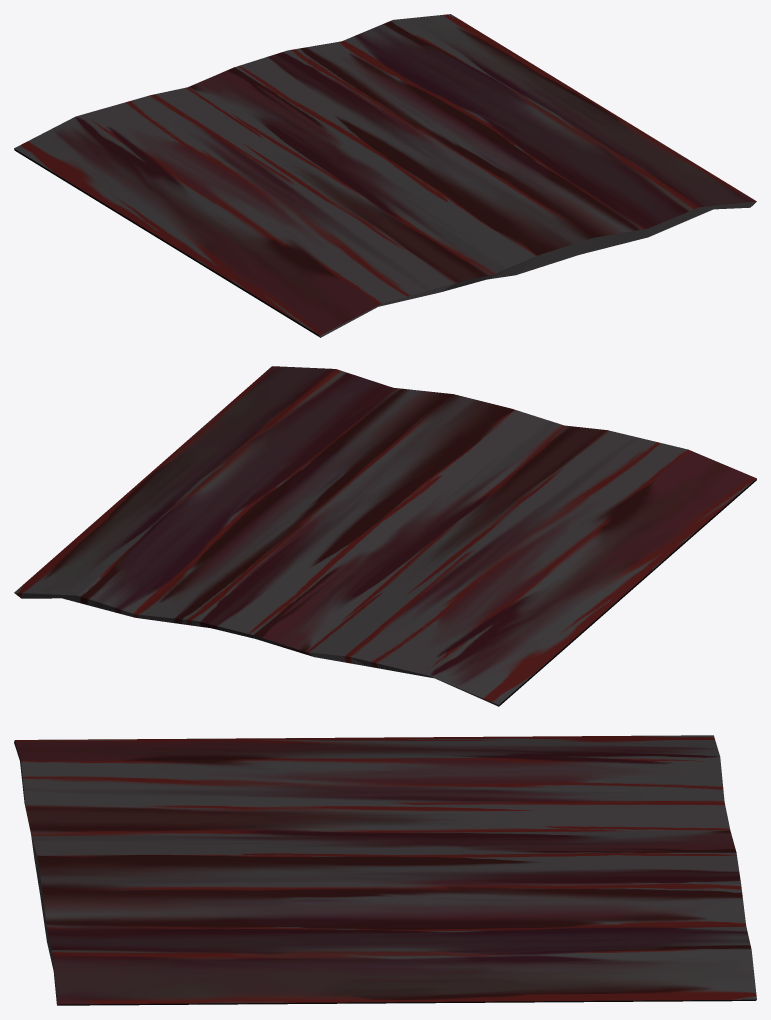
Rendered from Metal_Crate.fbx.
The picture shows the model from 3 angles, top to bottom: view 1: azimuth 30°, elevation 25°; view 2: azimuth 150°, elevation 25°; view 3: azimuth 270°, elevation 25°; orthographic projection. The views are drawn at different scales.
Visible parts, largest first — view 1: Grate01; view 2: Grate01; view 3: Grate01.
Boxes of the visible parts, box(x1,y1,x2,y2) form: Grate01: box(14, 14, 756, 337); Grate01: box(14, 366, 756, 706); Grate01: box(14, 735, 756, 1005).
Size of the model in its own units: 1351 by 88.42 by 1438.
1 material, 1 textured.
